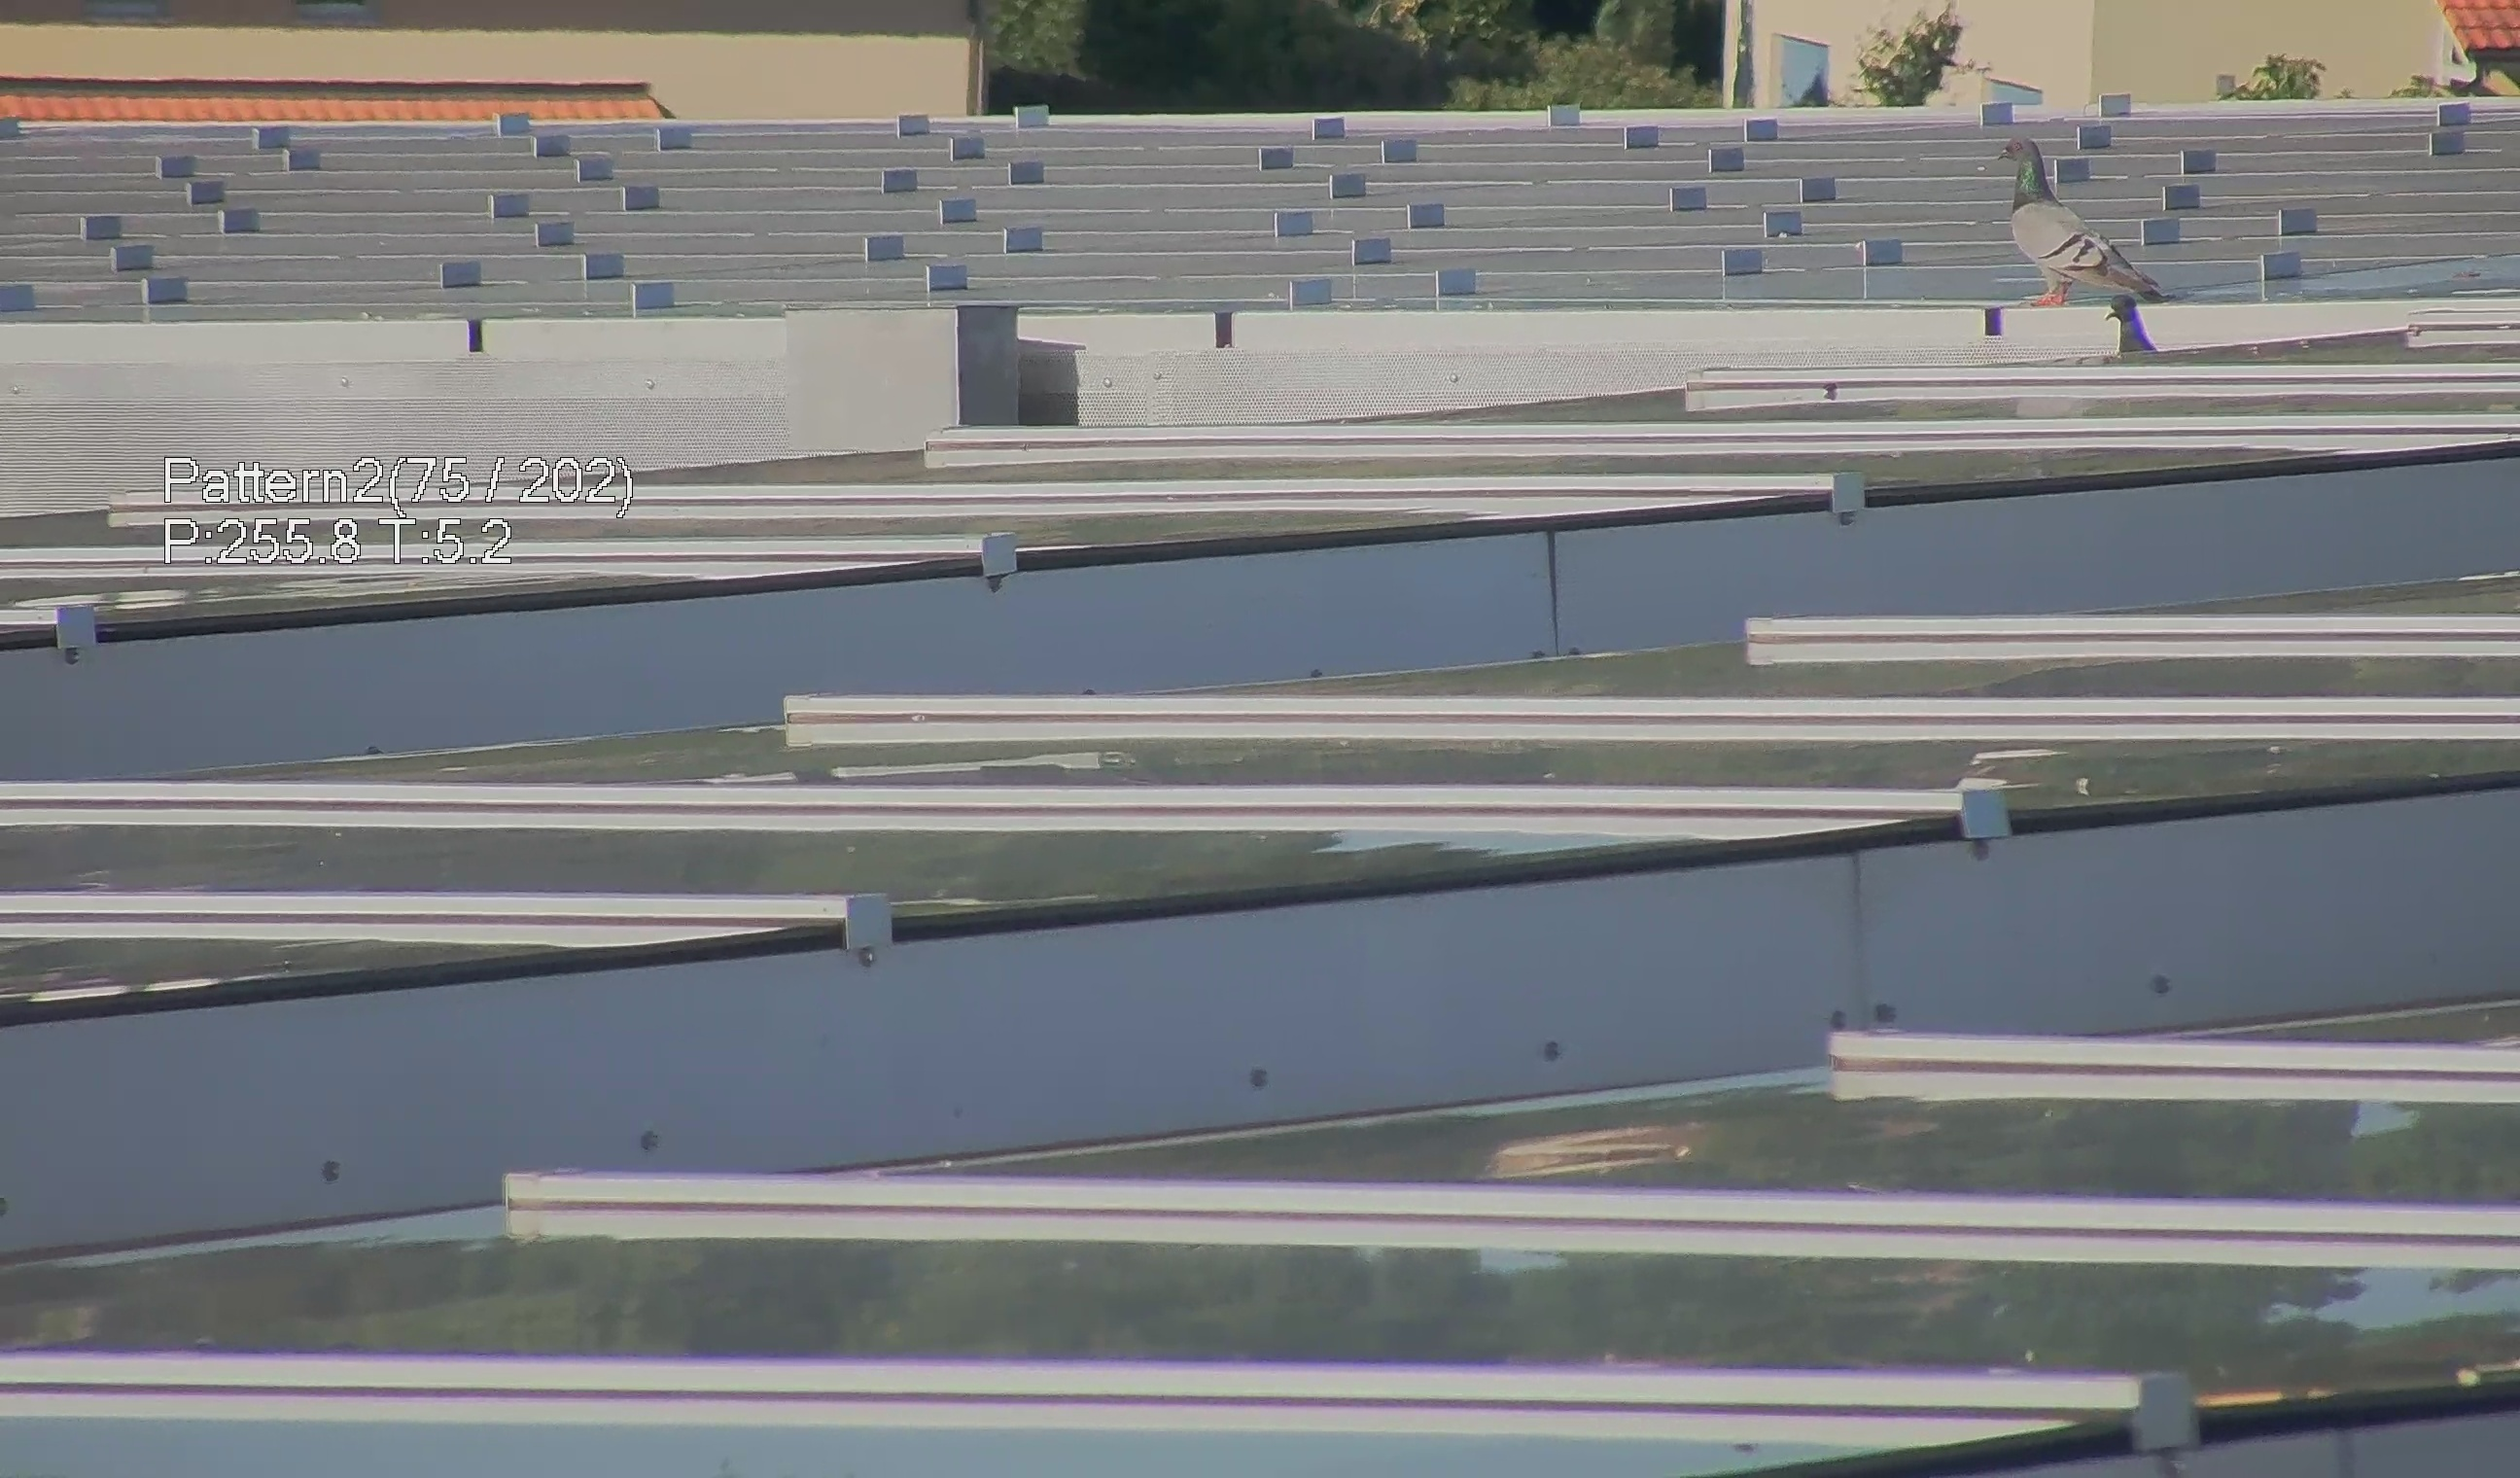Pigeon: (1980, 132, 2159, 311), (2089, 285, 2172, 368)
